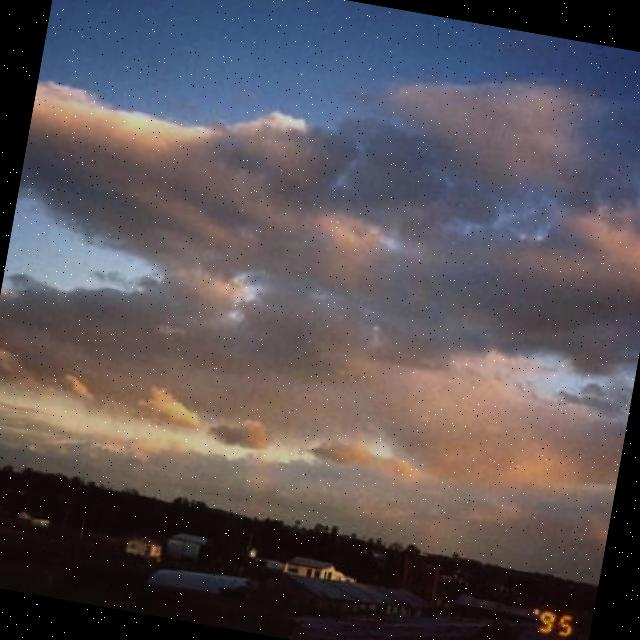St: (1, 1, 640, 419)
